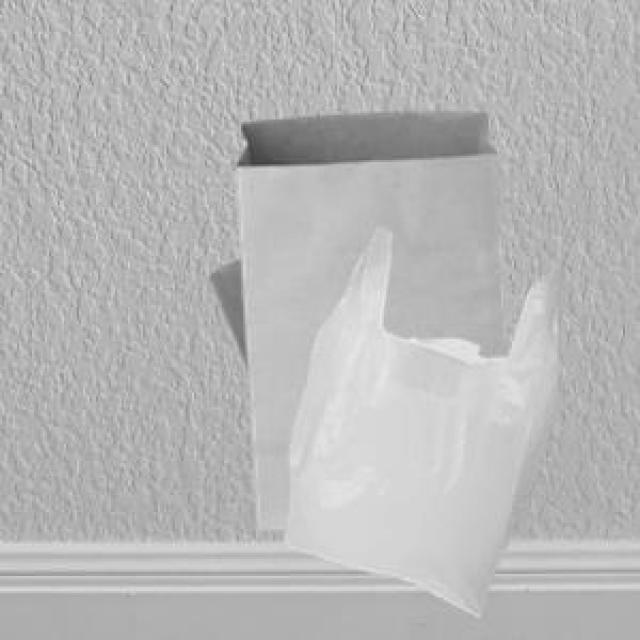paper: (233, 107, 504, 527), (205, 256, 242, 358)
